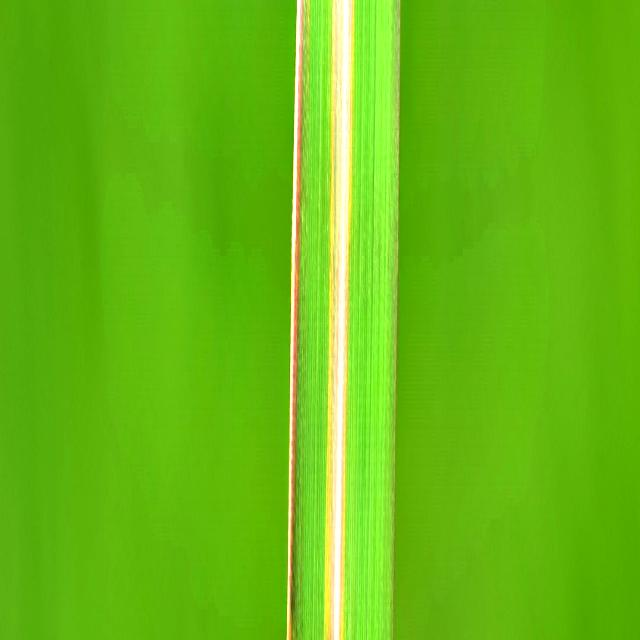BLB: (324, 0, 354, 640), (286, 0, 311, 640)
